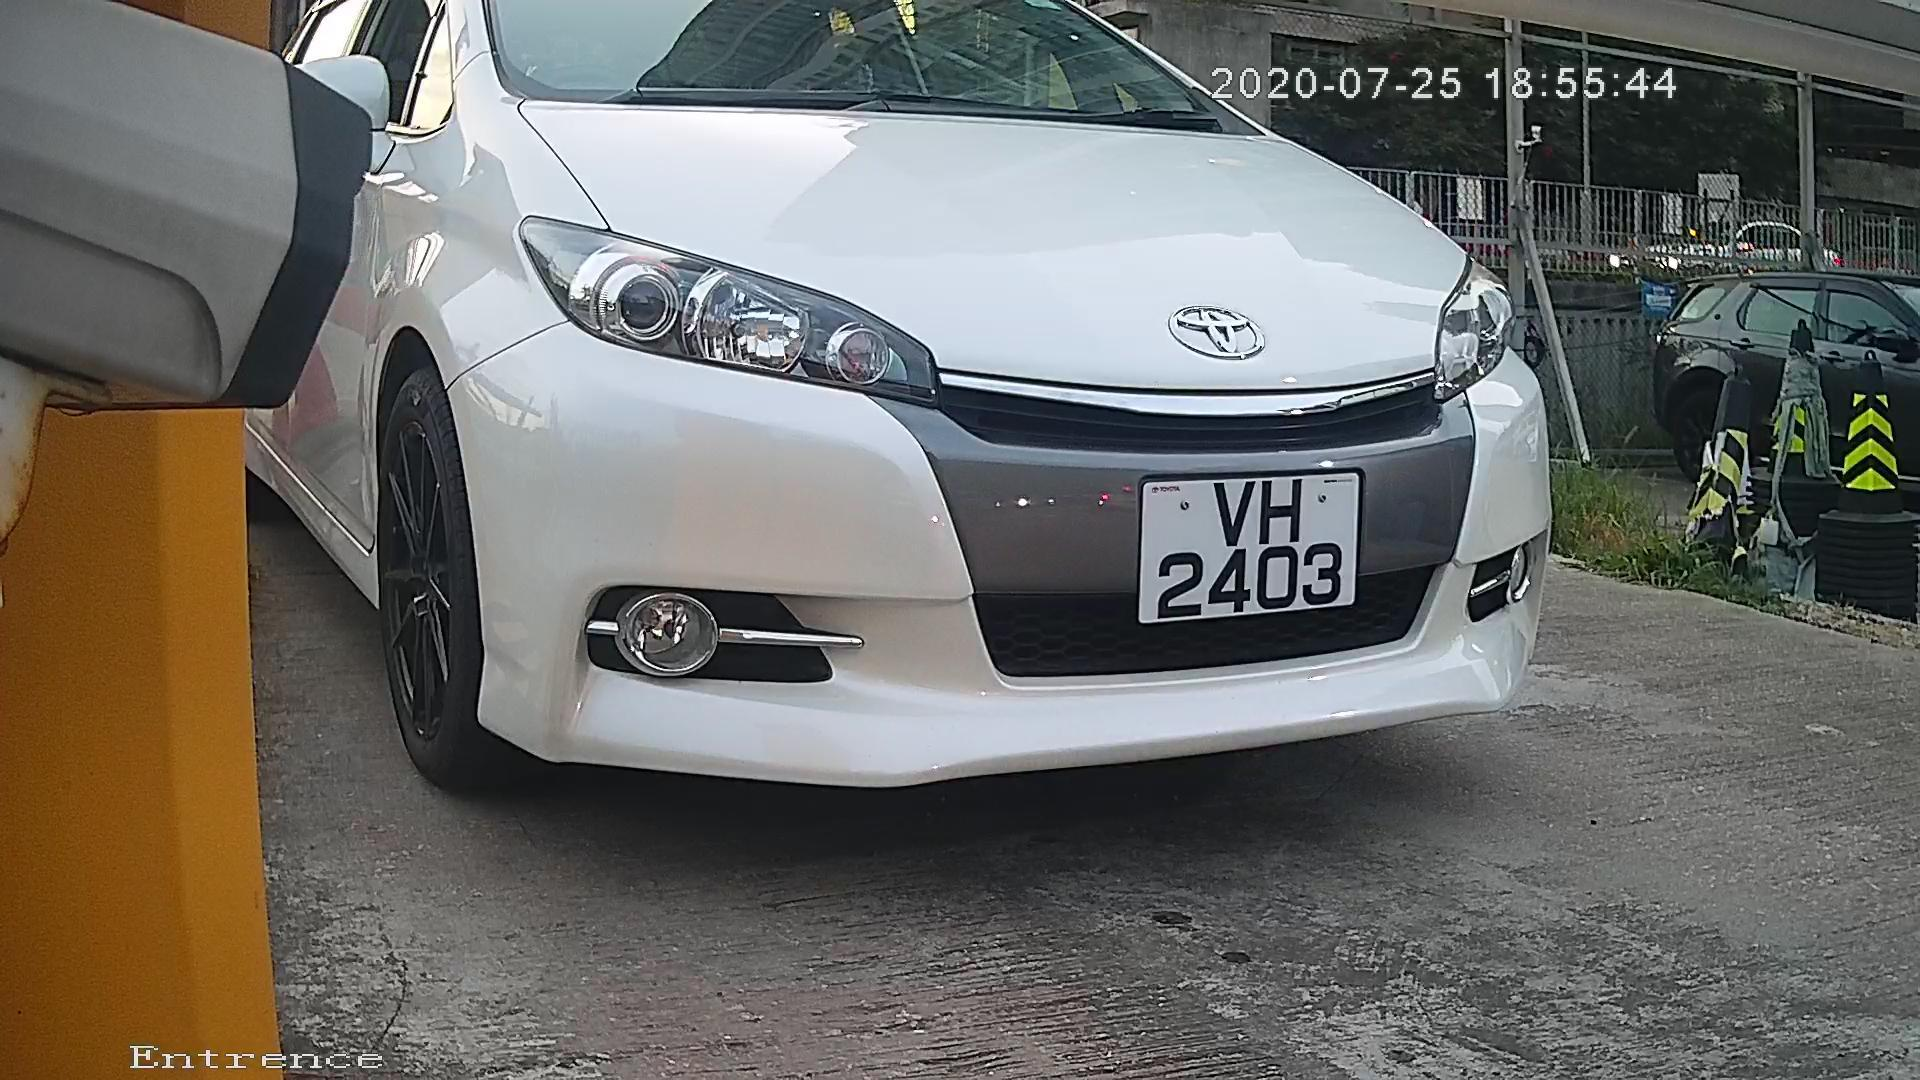privatecar: (229, 1, 1600, 851)
